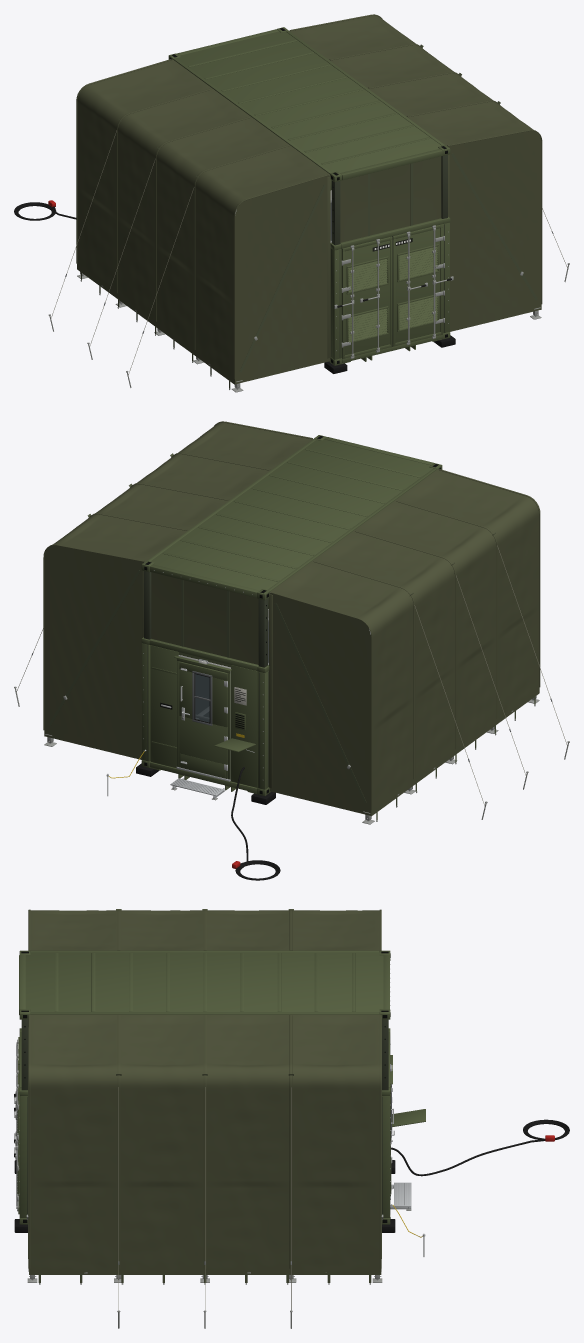
The model's file is ehmecc-deployed.glb.
3 views of the same model, one above another, from view 1: azimuth 30°, elevation 25°; view 2: azimuth 150°, elevation 25°; view 3: azimuth 270°, elevation 25° (orthographic). The views are drawn at different scales.
Visible parts, largest first — view 1: EHMECC_expansion_L, EHMECC_core, EHMECC_expansion_R; view 2: EHMECC_expansion_L, EHMECC_core, EHMECC_expansion_R, EHMECC_site_kit; view 3: EHMECC_expansion_R, EHMECC_core, EHMECC_expansion_L, EHMECC_site_kit.
Part boxes in pixels (bbox=[...]): EHMECC_expansion_L: bbox=[48, 59, 330, 392]; EHMECC_core: bbox=[168, 27, 455, 373]; EHMECC_expansion_R: bbox=[289, 14, 569, 331]; EHMECC_expansion_L: bbox=[269, 469, 569, 824]; EHMECC_core: bbox=[136, 435, 442, 804]; EHMECC_expansion_R: bbox=[14, 421, 312, 759]; EHMECC_site_kit: bbox=[106, 749, 280, 880]; EHMECC_expansion_R: bbox=[26, 1014, 383, 1328]; EHMECC_core: bbox=[14, 950, 425, 1232]; EHMECC_expansion_L: bbox=[28, 909, 381, 950]; EHMECC_site_kit: bbox=[390, 1119, 569, 1256].
Size of the model in its own units: 9.34 by 4.23 by 9.09.
